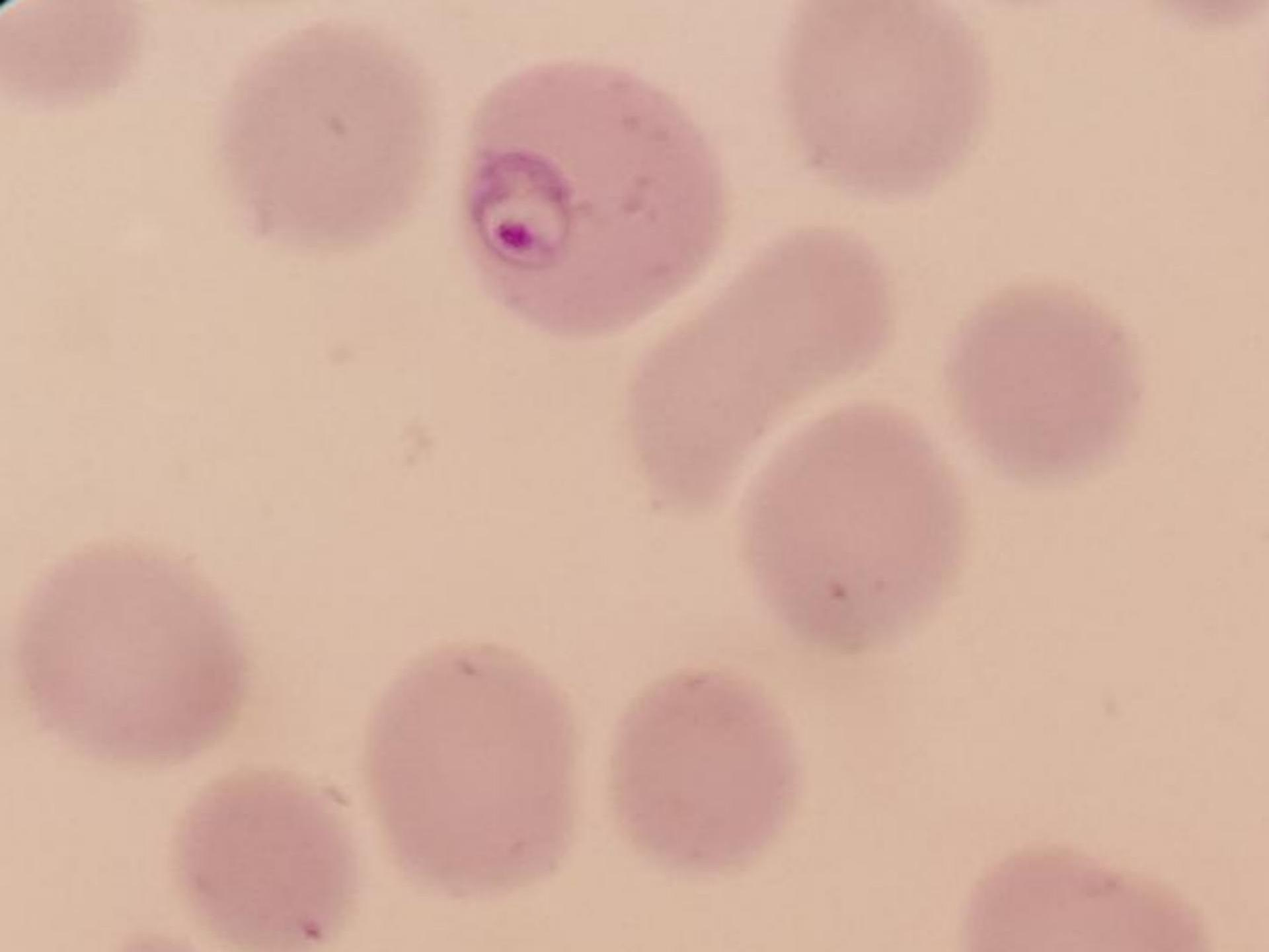Infected: (464, 55, 721, 335)
Uninfected: (625, 223, 894, 514), (747, 402, 974, 645), (365, 643, 582, 897), (21, 547, 244, 759), (220, 25, 428, 246), (788, 0, 991, 190), (610, 666, 800, 869), (952, 283, 1140, 479), (172, 770, 360, 952)
